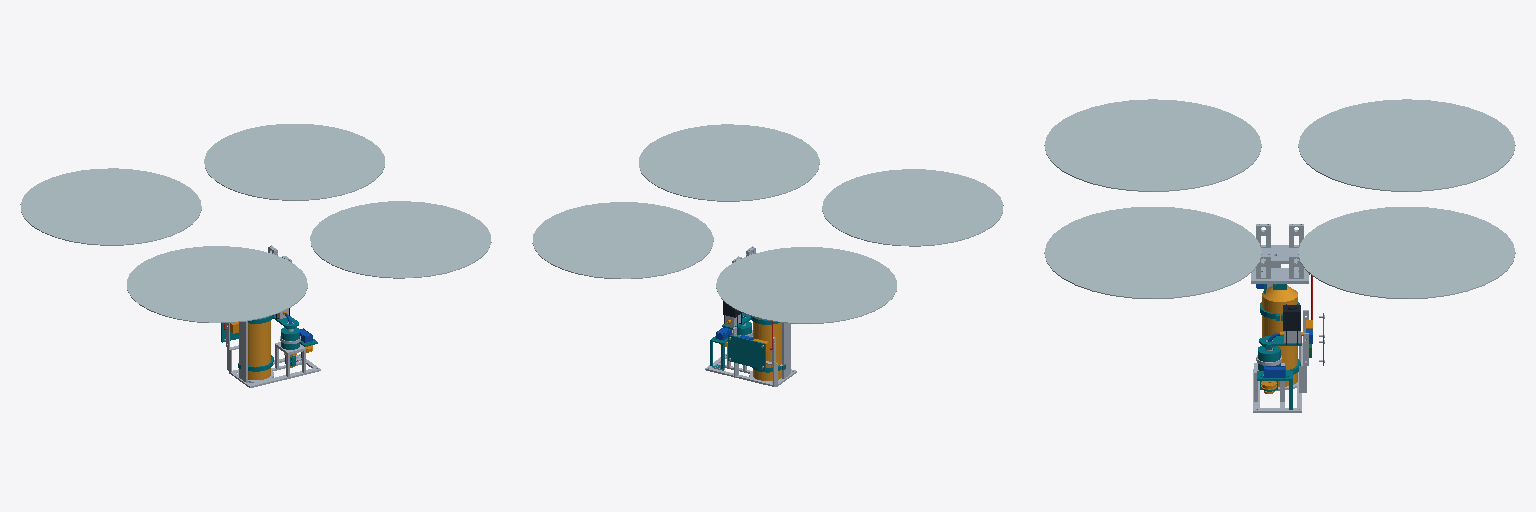
robot.urdf — x650_compact_sprayer:
<?xml version='1.0' encoding='utf-8'?>
<robot name="x650_compact_sprayer">
  <link name="base_link">
    <inertial>
      <origin xyz="0 0 0.0359" rpy="0 0 0" />
      <mass value="2" />
      <inertia ixx="0.05690848888" ixy="0" ixz="0" iyy="0.05690848888" iyz="0" izz="0.1065002178" />
    </inertial>
    <visual name="holybro_x650_frame">
      <origin xyz="0 0 0" rpy="0 0 0" />
      <geometry>
        <mesh filename="../meshes/x650_frame.stl" scale="0.001 0.001 0.001" />
      </geometry>
      <material name="x650_carbon_dark">
        <color rgba="0.13 0.16 0.18 1" />
      </material>
    </visual>
    <collision name="central_frame">
      <origin xyz="0 0 0.05" rpy="0 0 0" />
      <geometry>
        <box size="0.16 0.16 0.07" />
      </geometry>
    </collision>
    <collision name="x650_arm_1">
      <origin xyz="-0.142405 -0.142405 0.065" rpy="0 1.490072091 -2.35619449" />
      <geometry>
        <cylinder radius="0.011" length="0.2480263538416835" />
      </geometry>
    </collision>
    <collision name="x650_motor_1">
      <origin xyz="-0.22981 -0.22981 0.075" rpy="0 0 0" />
      <geometry>
        <cylinder radius="0.024" length="0.05" />
      </geometry>
    </collision>
    <visual name="propeller_swept_disk_1">
      <origin xyz="-0.22981 -0.22981 0.11" rpy="0 0 0" />
      <geometry>
        <cylinder radius="0.19685" length="0.002" />
      </geometry>
      <material name="propeller_swept_disk_color_1">
        <color rgba="0.72 0.79 0.81 0.28" />
      </material>
    </visual>
    <collision name="x650_arm_2">
      <origin xyz="-0.142405 0.142405 0.065" rpy="0 1.490072091 2.35619449" />
      <geometry>
        <cylinder radius="0.011" length="0.2480263538416835" />
      </geometry>
    </collision>
    <collision name="x650_motor_2">
      <origin xyz="-0.22981 0.22981 0.075" rpy="0 0 0" />
      <geometry>
        <cylinder radius="0.024" length="0.05" />
      </geometry>
    </collision>
    <visual name="propeller_swept_disk_2">
      <origin xyz="-0.22981 0.22981 0.11" rpy="0 0 0" />
      <geometry>
        <cylinder radius="0.19685" length="0.002" />
      </geometry>
      <material name="propeller_swept_disk_color_2">
        <color rgba="0.72 0.79 0.81 0.28" />
      </material>
    </visual>
    <collision name="x650_arm_3">
      <origin xyz="0.142405 -0.142405 0.065" rpy="0 1.490072091 -0.7853981634" />
      <geometry>
        <cylinder radius="0.011" length="0.2480263538416835" />
      </geometry>
    </collision>
    <collision name="x650_motor_3">
      <origin xyz="0.22981 -0.22981 0.075" rpy="0 0 0" />
      <geometry>
        <cylinder radius="0.024" length="0.05" />
      </geometry>
    </collision>
    <visual name="propeller_swept_disk_3">
      <origin xyz="0.22981 -0.22981 0.11" rpy="0 0 0" />
      <geometry>
        <cylinder radius="0.19685" length="0.002" />
      </geometry>
      <material name="propeller_swept_disk_color_3">
        <color rgba="0.72 0.79 0.81 0.28" />
      </material>
    </visual>
    <collision name="x650_arm_4">
      <origin xyz="0.142405 0.142405 0.065" rpy="0 1.490072091 0.7853981634" />
      <geometry>
        <cylinder radius="0.011" length="0.2480263538416835" />
      </geometry>
    </collision>
    <collision name="x650_motor_4">
      <origin xyz="0.22981 0.22981 0.075" rpy="0 0 0" />
      <geometry>
        <cylinder radius="0.024" length="0.05" />
      </geometry>
    </collision>
    <visual name="propeller_swept_disk_4">
      <origin xyz="0.22981 0.22981 0.11" rpy="0 0 0" />
      <geometry>
        <cylinder radius="0.19685" length="0.002" />
      </geometry>
      <material name="propeller_swept_disk_color_4">
        <color rgba="0.72 0.79 0.81 0.28" />
      </material>
    </visual>
    <collision name="x650_payload_rail_1">
      <origin xyz="0.005 -0.03 0.016809569" rpy="0 1.570796327 0" />
      <geometry>
        <cylinder radius="0.005" length="0.32" />
      </geometry>
    </collision>
    <collision name="x650_payload_rail_2">
      <origin xyz="0.005 0.03 0.016809569" rpy="0 1.570796327 0" />
      <geometry>
        <cylinder radius="0.005" length="0.32" />
      </geometry>
    </collision>
    <collision name="x650_landing_skid_1">
      <origin xyz="0 -0.1589 -0.273190431" rpy="0 1.570796327 0" />
      <geometry>
        <cylinder radius="0.005" length="0.32" />
      </geometry>
    </collision>
    <collision name="x650_landing_leg_1_1">
      <origin xyz="-0.1 -0.10695 -0.125" rpy="0 2.786270651 -1.570796327" />
      <geometry>
        <cylinder radius="0.008" length="0.29865567130057985" />
      </geometry>
    </collision>
    <collision name="x650_landing_leg_1_2">
      <origin xyz="0.1 -0.10695 -0.125" rpy="0 2.786270651 -1.570796327" />
      <geometry>
        <cylinder radius="0.008" length="0.29865567130057985" />
      </geometry>
    </collision>
    <collision name="x650_landing_skid_2">
      <origin xyz="0 0.1589 -0.273190431" rpy="0 1.570796327 0" />
      <geometry>
        <cylinder radius="0.005" length="0.32" />
      </geometry>
    </collision>
    <collision name="x650_landing_leg_2_1">
      <origin xyz="-0.1 0.10695 -0.125" rpy="0 2.786270651 1.570796327" />
      <geometry>
        <cylinder radius="0.008" length="0.29865567130057985" />
      </geometry>
    </collision>
    <collision name="x650_landing_leg_2_2">
      <origin xyz="0.1 0.10695 -0.125" rpy="0 2.786270651 1.570796327" />
      <geometry>
        <cylinder radius="0.008" length="0.29865567130057985" />
      </geometry>
    </collision>
  </link>
  <link name="rail_mount">
    <inertial>
      <origin xyz="-0.00732259884 0.0003204033996 -0.01611751821" rpy="0 0 0" />
      <mass value="0.3289488869" />
      <inertia ixx="0.0003601351447620349" ixy="-2.0282022721730755e-09" ixz="-6.668505687378087e-08" iyy="0.0009407233802553283" iyz="9.863988801529271e-08" izz="0.0011844421891794962" />
    </inertial>
    <visual name="rail_mount_visual_0">
      <origin xyz="0 0 0" rpy="0 0 0" />
      <geometry>
        <mesh filename="../meshes/rail_mount_00.stl" scale="0.001 0.001 0.001" />
      </geometry>
      <material name="rail_mount_material_0">
        <color rgba="0.69 0.74 0.79 1" />
      </material>
    </visual>
    <collision name="bridge">
      <origin xyz="-0.007 0.00027591 -0.023" rpy="0 0 0" />
      <geometry>
        <box size="0.156 0.104 0.006" />
      </geometry>
    </collision>
  </link>
  <link name="sprayer_body">
    <inertial>
      <origin xyz="-0.02066974348 0.00282007502 0.1043998034" rpy="0 0 0" />
      <mass value="1.279340267" />
      <inertia ixx="0.006576174108910872" ixy="0.00030876921128389275" ixz="0.0011317378426546306" iyy="0.008059665323207657" iyz="0.00021482306906792298" izz="0.0038113272593325526" />
    </inertial>
    <visual name="sprayer_body_visual_0">
      <origin xyz="0 0 0" rpy="0 0 0" />
      <geometry>
        <mesh filename="../meshes/sprayer_body_00.stl" scale="0.001 0.001 0.001" />
      </geometry>
      <material name="sprayer_body_material_0">
        <color rgba="0.86 0.6 0.19 1" />
      </material>
    </visual>
    <visual name="sprayer_body_visual_1">
      <origin xyz="0 0 0" rpy="0 0 0" />
      <geometry>
        <mesh filename="../meshes/sprayer_body_01.stl" scale="0.001 0.001 0.001" />
      </geometry>
      <material name="sprayer_body_material_1">
        <color rgba="0.7 0.74 0.79 1" />
      </material>
    </visual>
    <visual name="sprayer_body_visual_2">
      <origin xyz="0 0 0" rpy="0 0 0" />
      <geometry>
        <mesh filename="../meshes/sprayer_body_02.stl" scale="0.001 0.001 0.001" />
      </geometry>
      <material name="sprayer_body_material_2">
        <color rgba="0.06 0.51 0.57 1" />
      </material>
    </visual>
    <visual name="sprayer_body_visual_3">
      <origin xyz="0 0 0" rpy="0 0 0" />
      <geometry>
        <mesh filename="../meshes/sprayer_body_03.stl" scale="0.001 0.001 0.001" />
      </geometry>
      <material name="sprayer_body_material_3">
        <color rgba="0.1 0.38 0.76 1" />
      </material>
    </visual>
    <visual name="sprayer_body_visual_4">
      <origin xyz="0 0 0" rpy="0 0 0" />
      <geometry>
        <mesh filename="../meshes/sprayer_body_04.stl" scale="0.001 0.001 0.001" />
      </geometry>
      <material name="sprayer_body_material_4">
        <color rgba="0.15 0.19 0.24 1" />
      </material>
    </visual>
    <visual name="sprayer_body_visual_5">
      <origin xyz="0 0 0" rpy="0 0 0" />
      <geometry>
        <mesh filename="../meshes/sprayer_body_05.stl" scale="0.001 0.001 0.001" />
      </geometry>
      <material name="sprayer_body_material_5">
        <color rgba="0.85 0.56 0.13 1" />
      </material>
    </visual>
    <visual name="sprayer_body_visual_6">
      <origin xyz="0 0 0" rpy="0 0 0" />
      <geometry>
        <mesh filename="../meshes/sprayer_body_06.stl" scale="0.001 0.001 0.001" />
      </geometry>
      <material name="sprayer_body_material_6">
        <color rgba="0.1 0.5 0.27 1" />
      </material>
    </visual>
    <visual name="sprayer_body_visual_7">
      <origin xyz="0 0 0" rpy="0 0 0" />
      <geometry>
        <mesh filename="../meshes/sprayer_body_07.stl" scale="0.001 0.001 0.001" />
      </geometry>
      <material name="sprayer_body_material_7">
        <color rgba="0.8 0.18 0.15 1" />
      </material>
    </visual>
    <collision name="can">
      <origin xyz="-0.04 0 0.1045" rpy="0 0 0" />
      <geometry>
        <cylinder radius="0.03285" length="0.185" />
      </geometry>
    </collision>
    <collision name="electronics">
      <origin xyz="-0.033 0.0615 0.096" rpy="0 0 0" />
      <geometry>
        <box size="0.094 0.041 0.062" />
      </geometry>
    </collision>
    <collision name="bottom_plate">
      <origin xyz="0.005 -0.005 0.01" rpy="0 0 0" />
      <geometry>
        <box size="0.178 0.09 0.004" />
      </geometry>
    </collision>
    <collision name="spine">
      <origin xyz="-0.079 -0.014 0.122" rpy="0 0 0" />
      <geometry>
        <box size="0.004 0.03 0.22" />
      </geometry>
    </collision>
    <collision name="top_plate">
      <origin xyz="-0.043 0 0.234" rpy="0 0 0" />
      <geometry>
        <box size="0.09 0.096 0.004" />
      </geometry>
    </collision>
  </link>
  <link name="trigger_crank">
    <inertial>
      <origin xyz="-0.008274909017 0.00187956933 0" rpy="0 0 0" />
      <mass value="0.00178231835" />
      <inertia ixx="4.674163597916135e-08" ixy="2.8522120177826912e-08" ixz="0.0" iyy="1.0294364423951163e-07" iyz="0.0" izz="1.256348411561693e-07" />
    </inertial>
    <visual name="trigger_crank_visual_0">
      <origin xyz="0 0 0" rpy="0 0 0" />
      <geometry>
        <mesh filename="../meshes/trigger_crank_00.stl" scale="0.001 0.001 0.001" />
      </geometry>
      <material name="trigger_crank_material_0">
        <color rgba="0.7 0.74 0.79 1" />
      </material>
    </visual>
    <visual name="trigger_crank_visual_1">
      <origin xyz="0 0 0" rpy="0 0 0" />
      <geometry>
        <mesh filename="../meshes/trigger_crank_01.stl" scale="0.001 0.001 0.001" />
      </geometry>
      <material name="trigger_crank_material_1">
        <color rgba="0.15 0.19 0.24 1" />
      </material>
    </visual>
    <collision name="horn">
      <origin xyz="-0.0075 0 0" rpy="0 0 0" />
      <geometry>
        <box size="0.019 0.005 0.004" />
      </geometry>
    </collision>
  </link>
  <link name="nozzle_head">
    <inertial>
      <origin xyz="1.878083071e-05 0.03265822757 0.04371584901" rpy="0 0 0" />
      <mass value="0.2720906086" />
      <inertia ixx="0.0006267366696645471" ixy="6.547271378931042e-08" ixz="8.469265579346144e-08" iyy="0.0005400767046260863" iyz="-0.00017693494427536128" izz="0.00011934452439458475" />
    </inertial>
    <visual name="nozzle_head_visual_0">
      <origin xyz="0 0 0" rpy="0 0 0" />
      <geometry>
        <mesh filename="../meshes/nozzle_head_00.stl" scale="0.001 0.001 0.001" />
      </geometry>
      <material name="nozzle_head_material_0">
        <color rgba="0.15 0.19 0.24 1" />
      </material>
    </visual>
    <visual name="nozzle_head_visual_1">
      <origin xyz="0 0 0" rpy="0 0 0" />
      <geometry>
        <mesh filename="../meshes/nozzle_head_01.stl" scale="0.001 0.001 0.001" />
      </geometry>
      <material name="nozzle_head_material_1">
        <color rgba="0.85 0.56 0.13 1" />
      </material>
    </visual>
    <visual name="nozzle_head_visual_2">
      <origin xyz="0 0 0" rpy="0 0 0" />
      <geometry>
        <mesh filename="../meshes/nozzle_head_02.stl" scale="0.001 0.001 0.001" />
      </geometry>
      <material name="nozzle_head_material_2">
        <color rgba="0.7 0.74 0.79 1" />
      </material>
    </visual>
    <visual name="nozzle_head_visual_3">
      <origin xyz="0 0 0" rpy="0 0 0" />
      <geometry>
        <mesh filename="../meshes/nozzle_head_03.stl" scale="0.001 0.001 0.001" />
      </geometry>
      <material name="nozzle_head_material_3">
        <color rgba="0.06 0.51 0.57 1" />
      </material>
    </visual>
    <visual name="nozzle_head_visual_4">
      <origin xyz="0 0 0" rpy="0 0 0" />
      <geometry>
        <mesh filename="../meshes/nozzle_head_04.stl" scale="0.001 0.001 0.001" />
      </geometry>
      <material name="nozzle_head_material_4">
        <color rgba="0.1 0.38 0.76 1" />
      </material>
    </visual>
    <collision name="valve">
      <origin xyz="0 0.042 0.0635" rpy="0 0 0" />
      <geometry>
        <box size="0.03 0.022 0.067" />
      </geometry>
    </collision>
    <collision name="dry_shaft">
      <origin xyz="0 0 -0.0145" rpy="0 0 0" />
      <geometry>
        <cylinder radius="0.0075" length="0.085" />
      </geometry>
    </collision>
    <collision name="nozzle">
      <origin xyz="0 0 -0.062" rpy="0 0 0" />
      <geometry>
        <cylinder radius="0.01" length="0.022" />
      </geometry>
    </collision>
  </link>
  <joint name="rail_mount_fixed" type="fixed">
    <parent link="base_link" />
    <child link="rail_mount" />
    <origin xyz="0 0 0" rpy="0 0 0" />
  </joint>
  <joint name="sprayer_mount_fixed" type="fixed">
    <parent link="rail_mount" />
    <child link="sprayer_body" />
    <origin xyz="0.04 0.00027591 -0.262" rpy="0 0 0" />
  </joint>
  <joint name="nozzle_yaw" type="revolute">
    <parent link="sprayer_body" />
    <child link="nozzle_head" />
    <origin xyz="0.035 -0.02 0.095" rpy="0 0 0" />
    <axis xyz="0 0 1" />
    <limit lower="-1.5707963267948966" upper="0" effort="1" velocity="1" />
    <dynamics damping="0.01" friction="0" />
  </joint>
  <joint name="can_trigger" type="revolute">
    <parent link="sprayer_body" />
    <child link="trigger_crank" />
    <origin xyz="-0.025 -0.008 0.214" rpy="0 0 0" />
    <axis xyz="0 1 0" />
    <limit lower="-0.2013579207903308" upper="0" effort="1" velocity="1" />
    <dynamics damping="0.01" friction="0" />
  </joint>
  <link name="spray_tip" />
  <joint name="spray_tip_fixed" type="fixed">
    <parent link="nozzle_head" />
    <child link="spray_tip" />
    <origin xyz="0 0 -0.073" rpy="0 0 0" />
  </joint>
  <link name="battery_6s">
    <inertial>
      <origin xyz="0 0 0" rpy="0 0 0" />
      <mass value="0.750" />
      <inertia ixx="0.0003453125" ixy="0" ixz="0" iyy="0.0015625" iyz="0" izz="0.0015953125" />
    </inertial>
  </link>
  <joint name="battery_6s_fixed" type="fixed">
    <parent link="base_link" />
    <child link="battery_6s" />
    <origin xyz="0 0 0.045" rpy="0 0 0" />
  </joint>
</robot>

--- Render facts (derived) ---
Views: 3 orthographic renders of the robot side by side, from view 1: azimuth 30°, elevation 25°; view 2: azimuth 150°, elevation 25°; view 3: azimuth 270°, elevation 25°.
Model x650_compact_sprayer with 7 links and 6 joints (2 revolute, 4 fixed), rooted at base_link, posed every joint at zero.
Links seen in each view (by area): view 1: base_link, sprayer_body; view 2: base_link, sprayer_body; view 3: base_link, sprayer_body, rail_mount, nozzle_head.
Link boxes in pixels (box(x1,y1,x2,y2)): base_link: box(20, 124, 491, 322); sprayer_body: box(221, 315, 320, 387); base_link: box(532, 124, 1003, 323); sprayer_body: box(705, 316, 796, 386); base_link: box(1044, 99, 1515, 298); sprayer_body: box(1253, 264, 1324, 412); rail_mount: box(1251, 224, 1308, 283); nozzle_head: box(1259, 304, 1303, 393).
Bounding box of the posed robot: 0.8533 × 0.8533 × 0.365 m (x, y, z).
Meshes: 17 distinct files referenced, 15 mesh visuals loaded (15 binary STL); not drawn: 2 (reference not matched to a file when rendering).
